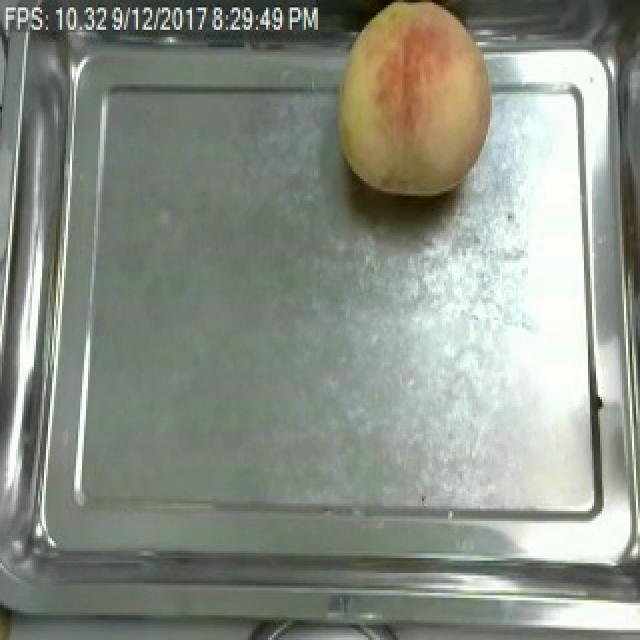Fruit: (326, 0, 500, 206)
